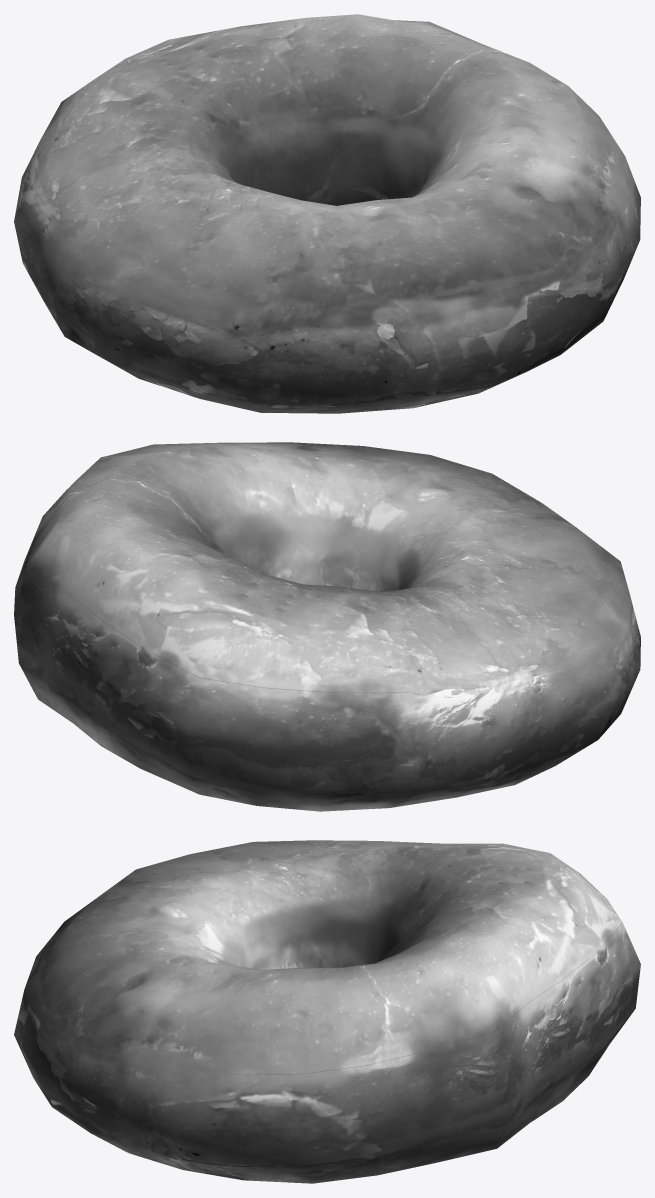
The model's file is donut_glazed.fbx.
3 views of the same model, one above another, from view 1: azimuth 30°, elevation 25°; view 2: azimuth 150°, elevation 25°; view 3: azimuth 270°, elevation 25° (orthographic). The views are drawn at different scales.
Parts seen in each view (by area): view 1: donut_glazed; view 2: donut_glazed; view 3: donut_glazed.
Boxes of the visible parts, bbox=[...] form: donut_glazed: bbox=[14, 14, 640, 413]; donut_glazed: bbox=[14, 442, 640, 811]; donut_glazed: bbox=[14, 840, 640, 1183].
Bounding box in the file's own units: 26.09 × 9.62 × 25.62.
